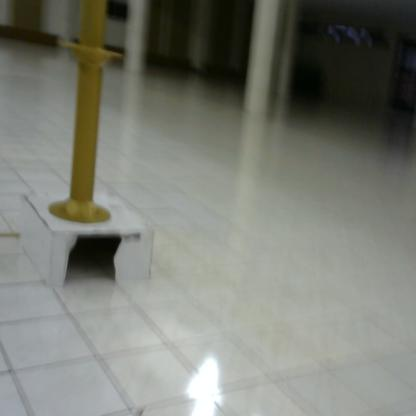pole: (46, 1, 132, 233)
